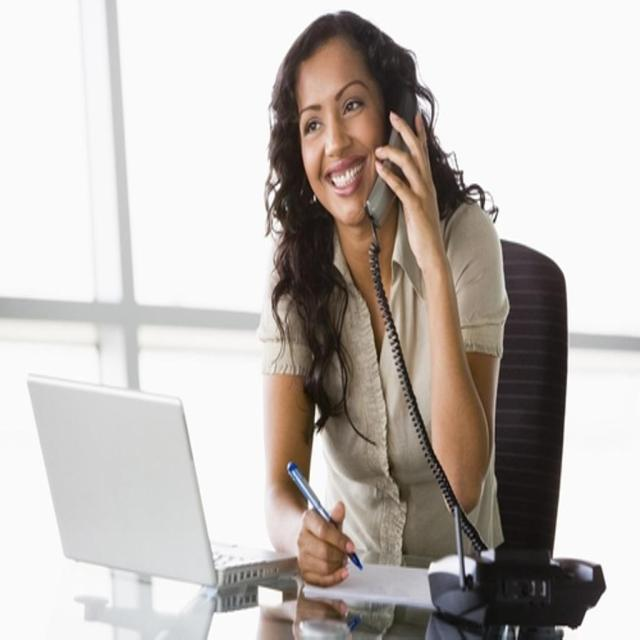Face: (293, 35, 387, 228)
